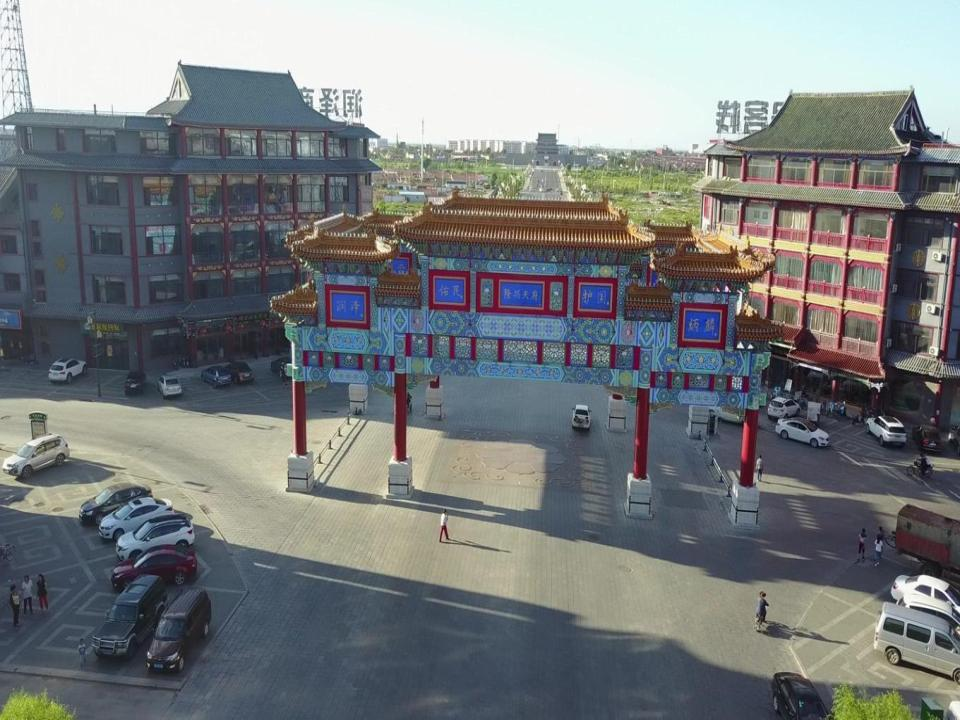car: (92, 574, 168, 658), (111, 544, 197, 591), (115, 514, 195, 557), (99, 497, 174, 539), (79, 483, 153, 524), (2, 433, 69, 478), (771, 672, 831, 720), (891, 574, 960, 613), (896, 595, 960, 631), (775, 417, 830, 448), (866, 415, 906, 447), (48, 358, 87, 383), (912, 423, 943, 452), (768, 396, 800, 419), (201, 366, 232, 388), (225, 361, 254, 384), (158, 375, 182, 399), (124, 371, 147, 394), (572, 404, 592, 429), (270, 358, 295, 378)
van: (874, 600, 960, 684), (145, 586, 212, 671)
